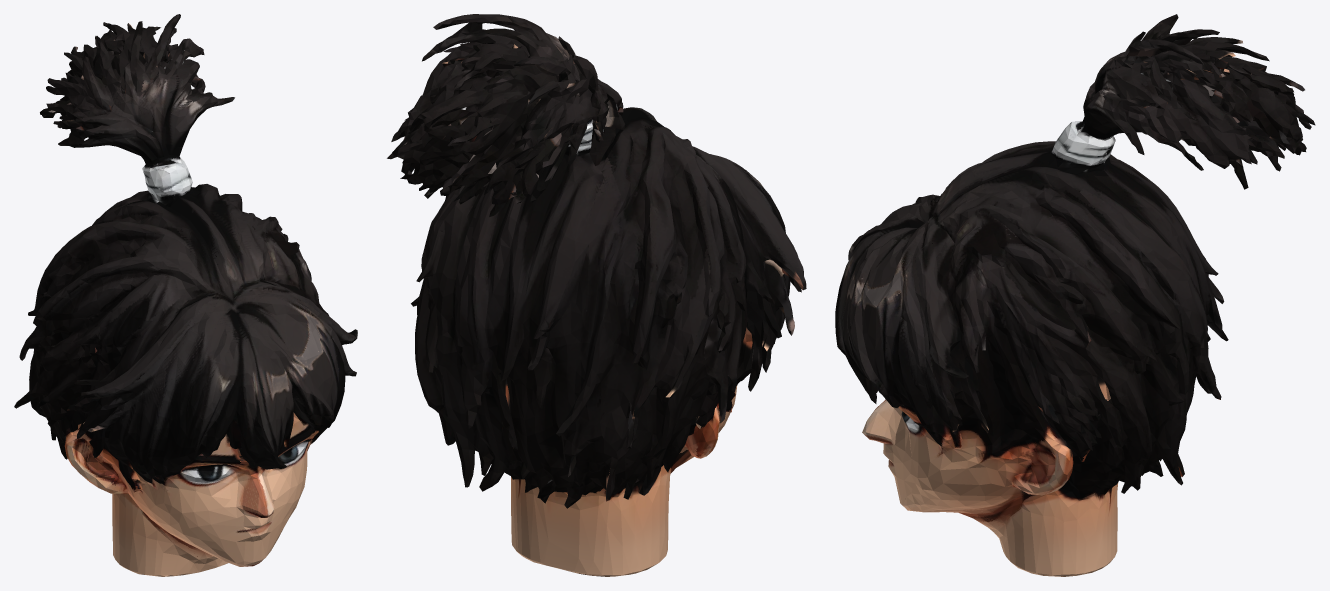
File: side_h_mirumoto_repaired_atlas.glb
3 views of the same model, side by side, from view 1: azimuth 30°, elevation 25°; view 2: azimuth 150°, elevation 25°; view 3: azimuth 270°, elevation 25° (orthographic). The views are drawn at different scales.
Parts seen in each view (by area): view 1: temp_mesh.ply; view 2: temp_mesh.ply; view 3: temp_mesh.ply.
Part boxes in pixels (x1=…): temp_mesh.ply: x1=14, y1=14, x2=357, y2=576; temp_mesh.ply: x1=387, y1=14, x2=806, y2=576; temp_mesh.ply: x1=835, y1=14, x2=1315, y2=576.
Bounding box in the file's own units: 0.6975 × 1.16 × 0.958.
1 material, 1 textured.
